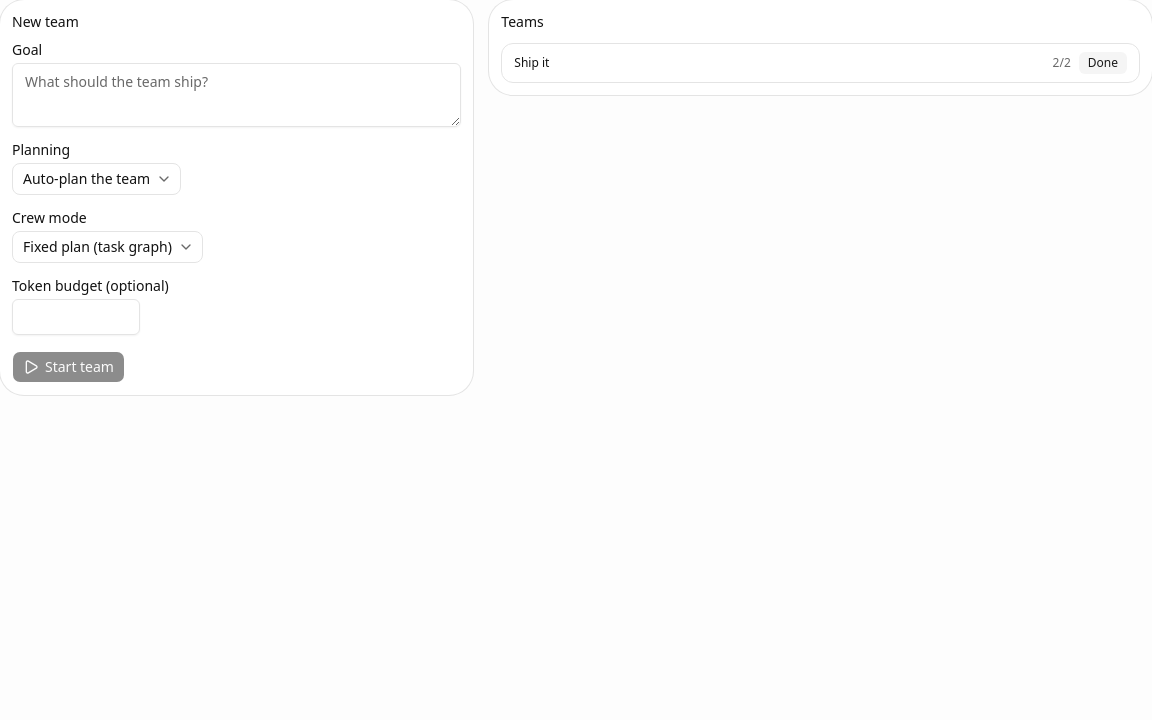
Test: shows task contracts and handoff outputs
The width and height of the screenshot is (1152, 720).
Click the button "Ship it 2/2 Done" at (532, 63), box x1=501 y1=43 x2=1140 y2=83
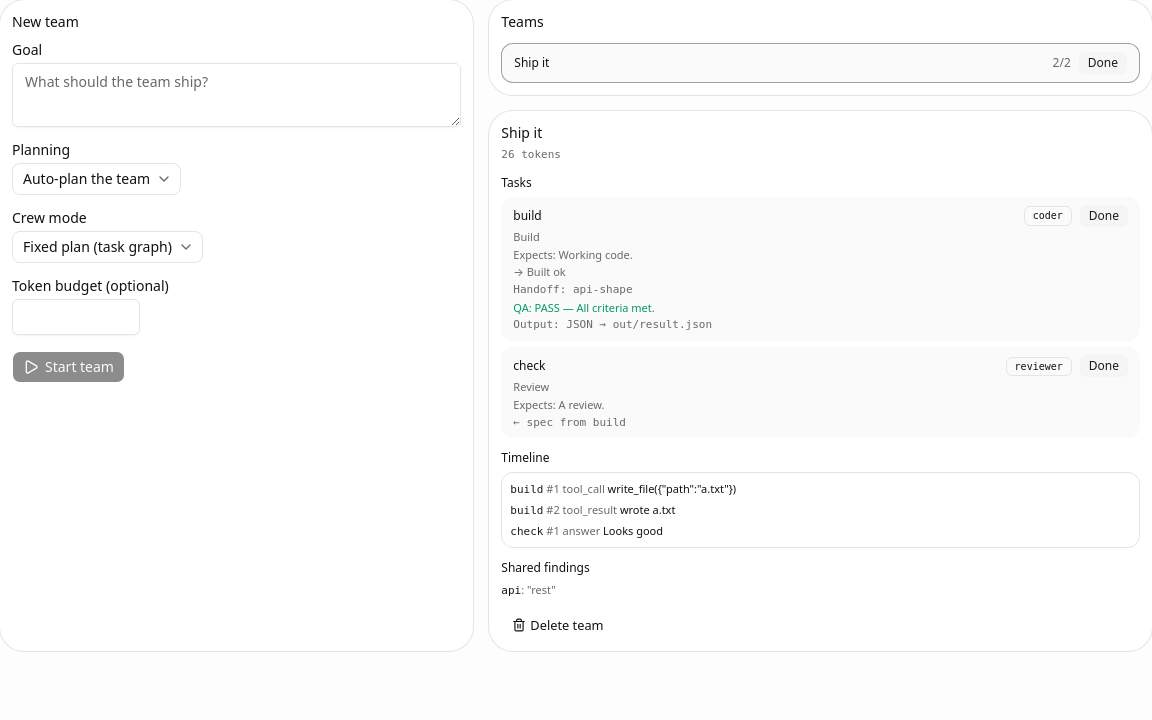
Now the text "Expects: Working code." is shown, box x1=513 y1=247 x2=633 y2=262
Now the text "← spec from build" is shown, box x1=513 y1=416 x2=626 y2=429
Now the text "Handoff: api-shape" is shown, box x1=513 y1=283 x2=632 y2=296
